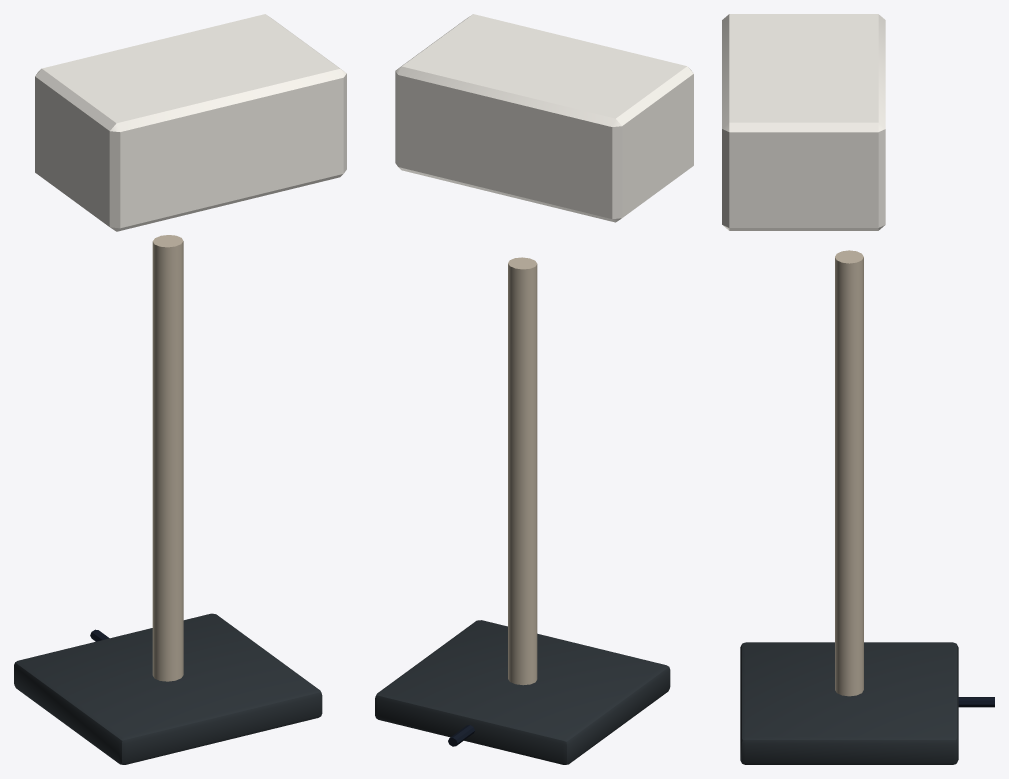
The model's file is desk-lamp.glb.
3 views of the same model, side by side, from view 1: azimuth 30°, elevation 25°; view 2: azimuth 150°, elevation 25°; view 3: azimuth 270°, elevation 25° (orthographic). The views are drawn at different scales.
Parts seen in each view (by area): view 1: desk-lamp; view 2: desk-lamp; view 3: desk-lamp.
Part boxes in pixels (x1=…): desk-lamp: x1=14, y1=14, x2=346, y2=764; desk-lamp: x1=375, y1=14, x2=693, y2=764; desk-lamp: x1=722, y1=14, x2=994, y2=764.
Size of the model in its own units: 0.16 by 0.42 by 0.16.
